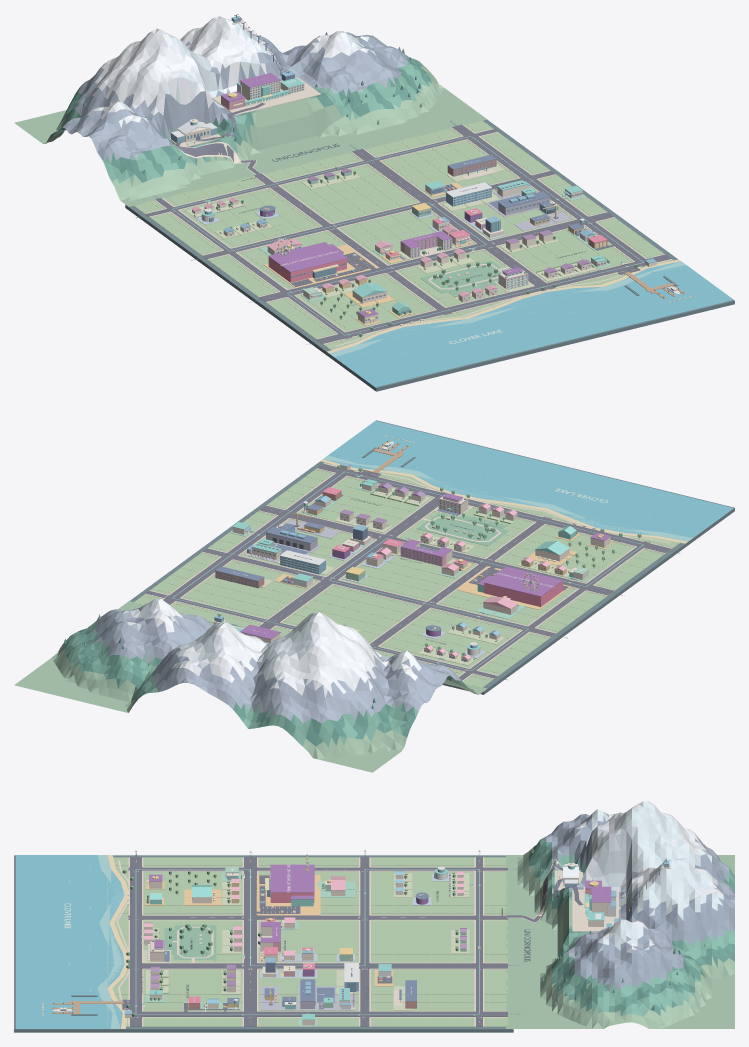
The model's file is town.glb.
3 views of the same model, one above another, from view 1: azimuth 30°, elevation 25°; view 2: azimuth 150°, elevation 25°; view 3: azimuth 270°, elevation 25° (orthographic).
Visible parts, largest first — view 1: Town surface · Town · grass, Town surface · South shore · deep blue, Town surface · Alpine · meadow, Town surface · Town · road, Town surface · Alpine · slate, Town surface · Alpine · fresh snow, Town surface · Town · walk, Town surface · Planning · plan lines, Town surface · Town · base, Town surface · Town · ivory, Town surface · Alpine · juniper, Town surface · Landmark · aqua (+18 smaller); view 2: Town surface · Town · grass, Town surface · South shore · deep blue, Town surface · Town · road, Town surface · Alpine · slate, Town surface · Alpine · fresh snow, Town surface · Alpine · meadow, Town surface · Town · walk, Town surface · Planning · plan lines, Town surface · Alpine · juniper, Town surface · Town · ivory, Town surface · Town · base, Town surface · Alpine · pine (+17 smaller); view 3: Town surface · Town · grass, Town surface · South shore · deep blue, Town surface · Town · road, Town surface · Alpine · meadow, Town surface · Alpine · shaded snow, Town surface · Alpine · blue stone, Town surface · Town · walk, Town surface · Alpine · juniper, Town surface · Planning · plan lines, Town surface · Town · base, Town surface · Alpine · pine, Town surface · Alpine · slate (+22 smaller).
Part boxes in pixels (box(x1,y1,x2,y2)): Town surface · Town · grass: box(134, 120, 672, 349); Town surface · South shore · deep blue: box(335, 261, 733, 387); Town surface · Alpine · meadow: box(14, 35, 487, 206); Town surface · Town · road: box(146, 103, 671, 343); Town surface · Alpine · slate: box(60, 32, 406, 163); Town surface · Alpine · fresh snow: box(87, 16, 366, 137); Town surface · Town · walk: box(145, 77, 671, 346); Town surface · Planning · plan lines: box(133, 120, 682, 351); Town surface · Town · base: box(125, 119, 734, 391); Town surface · Town · ivory: box(178, 20, 656, 325); Town surface · Alpine · juniper: box(54, 47, 433, 186); Town surface · Landmark · aqua: box(172, 78, 643, 335); Town surface · Town · grass: box(133, 462, 679, 687); Town surface · South shore · deep blue: box(325, 420, 733, 537); Town surface · Town · road: box(146, 463, 671, 680); Town surface · Alpine · slate: box(113, 609, 461, 723); Town surface · Alpine · fresh snow: box(123, 599, 421, 698); Town surface · Alpine · meadow: box(14, 601, 487, 772); Town surface · Town · walk: box(145, 463, 671, 681); Town surface · Planning · plan lines: box(133, 455, 682, 687); Town surface · Alpine · juniper: box(64, 614, 469, 747); Town surface · Town · ivory: box(212, 465, 610, 662); Town surface · Town · base: box(129, 420, 734, 694); Town surface · Alpine · pine: box(61, 618, 452, 746); Town surface · Town · grass: box(112, 857, 507, 1026); Town surface · South shore · deep blue: box(16, 855, 124, 1028); Town surface · Town · road: box(122, 857, 583, 1026); Town surface · Alpine · meadow: box(506, 845, 734, 1028); Town surface · Alpine · shaded snow: box(575, 801, 723, 952); Town surface · Alpine · blue stone: box(552, 816, 734, 990); Town surface · Town · walk: box(116, 857, 618, 1026); Town surface · Alpine · juniper: box(529, 838, 734, 1016); Town surface · Planning · plan lines: box(107, 857, 507, 1026); Town surface · Town · base: box(14, 855, 513, 1032); Town surface · Alpine · pine: box(529, 840, 734, 1015); Town surface · Alpine · slate: box(541, 812, 734, 983).
Size of the model in its own units: 222 by 61.25 by 378.
